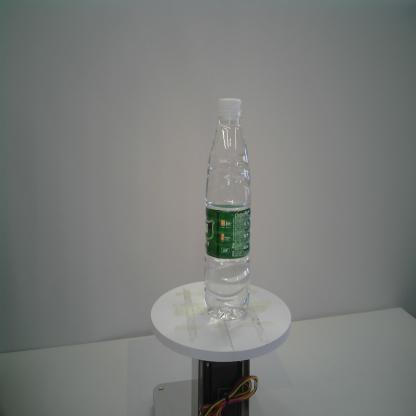Drink: (203, 97, 253, 322)
